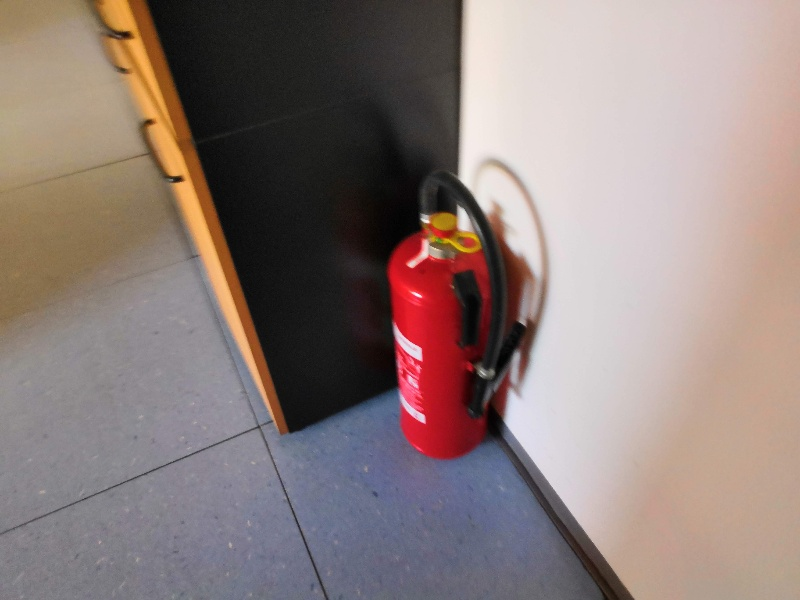vataparat: (388, 171, 528, 458)
